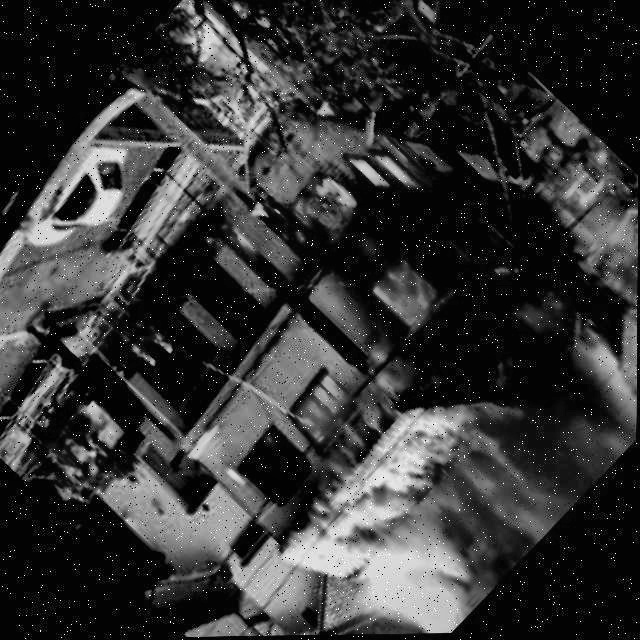Fire: (214, 79, 535, 400), (359, 425, 551, 619), (277, 366, 368, 458)
Smoke: (428, 274, 638, 528), (260, 377, 461, 582), (316, 525, 465, 636)
